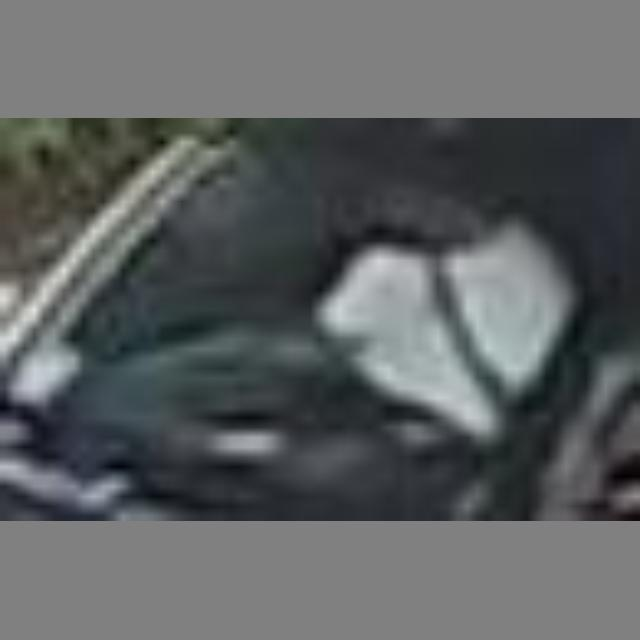pakai: (305, 187, 542, 423)
